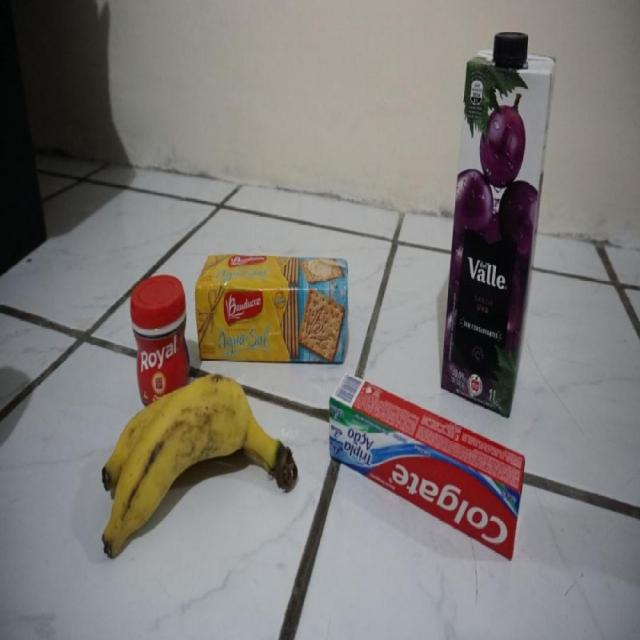Banana: (103, 386, 297, 548)
Cracker: (196, 254, 350, 368)
Toothpaste: (327, 376, 521, 559)
Yeast: (126, 277, 192, 388)
